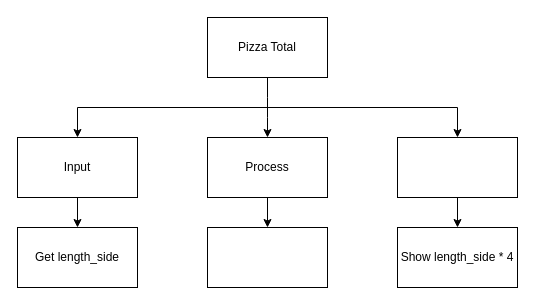
Image size: 535x305. Some labels were removed from this diagram. Each missing label, with the centre of its shape:
Output: the point at 457,167
perimeter_square = length_side * 4: the point at 267,257
